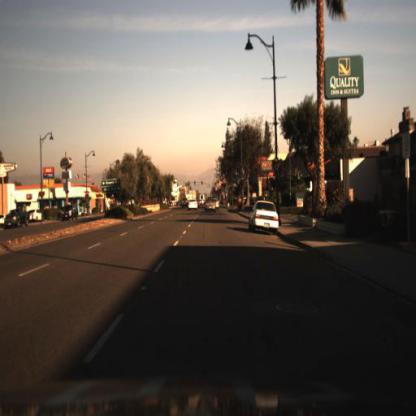car: (247, 198, 282, 241), (59, 201, 81, 225), (29, 206, 46, 224), (203, 197, 219, 213), (188, 198, 201, 213)
